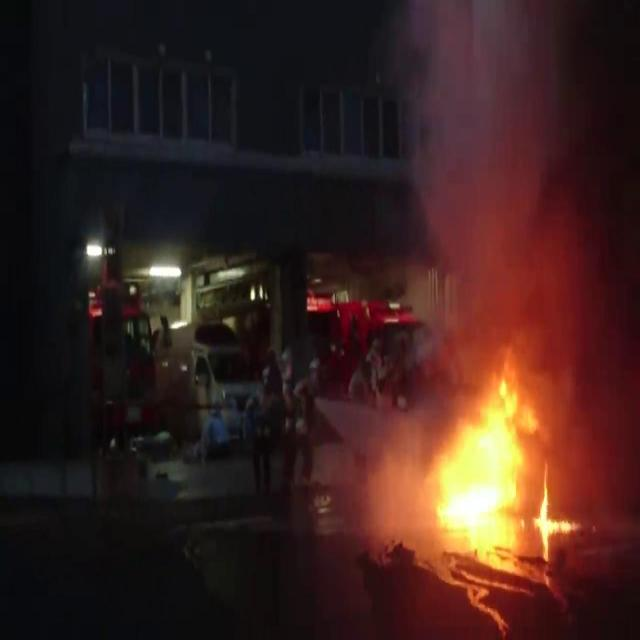Fire: (422, 386, 538, 520), (538, 462, 579, 532)
